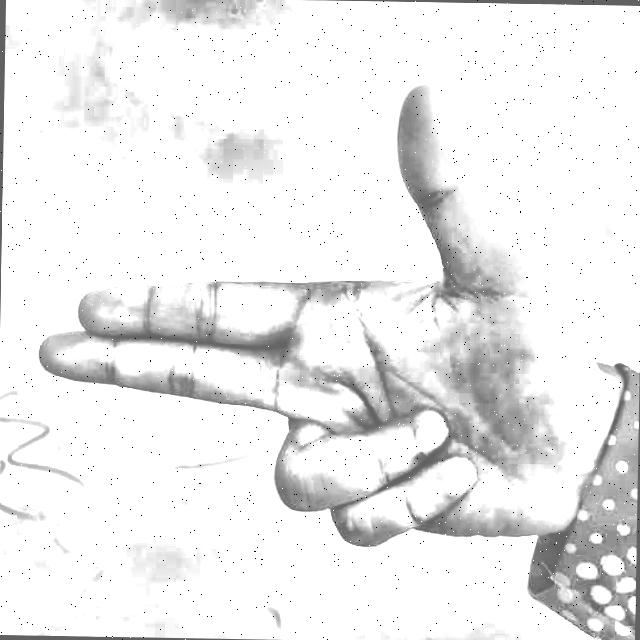Jha: (21, 43, 603, 635)
